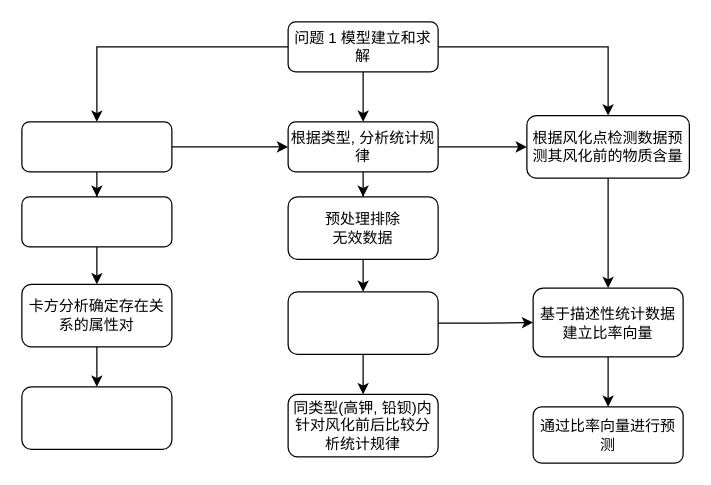
Some shapes in this 711 by 485 pixel diagram are drawn without their labels. The shapes that lost their labels are listed below. From the top down, each one's centre as x and y in pixels, then its label:
point (96, 146): 玻璃文物各属性之间的关系
point (96, 221): 剔除含有无效颜色值的文物样本
point (362, 322): 将文物分为四组, 分别汇总描述性统计数据
point (96, 417): 以表面是否风化为基准, 分类计频, 进一步刻画关系性
